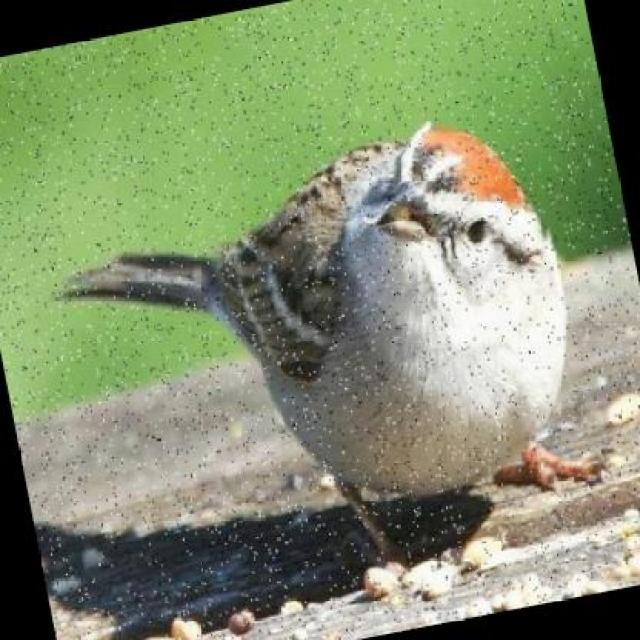Bird: (52, 115, 626, 571)
